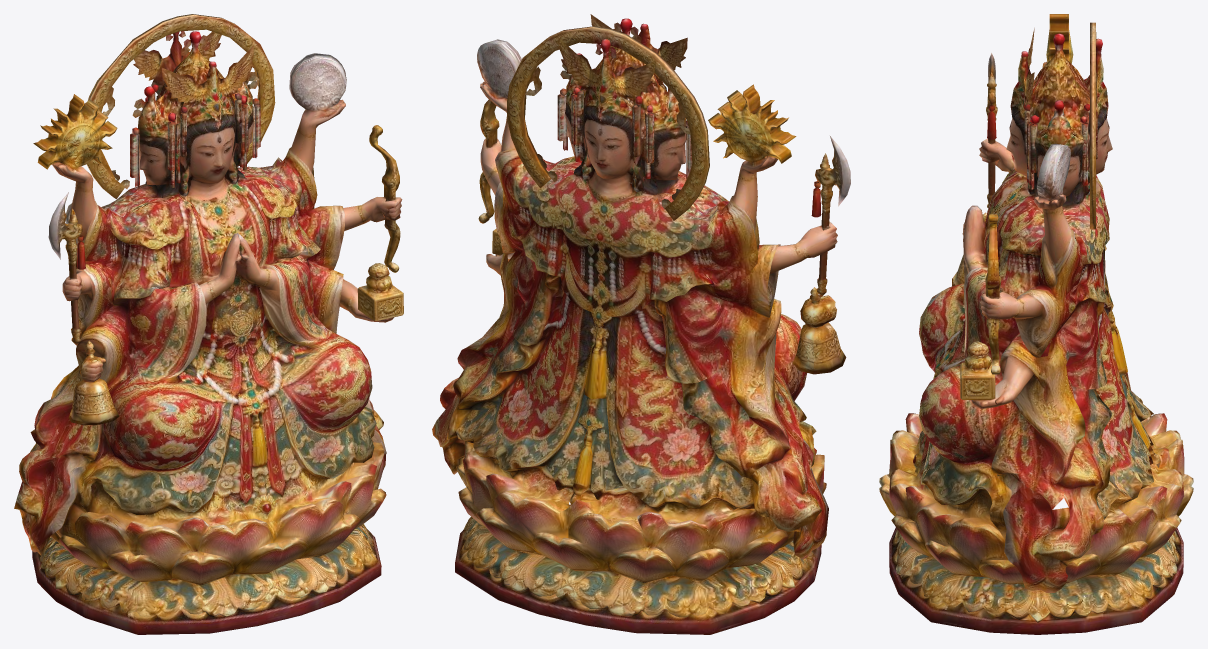
File: doumu.glb
The picture shows the model from 3 angles, left to right: view 1: azimuth 30°, elevation 25°; view 2: azimuth 150°, elevation 25°; view 3: azimuth 270°, elevation 25°; orthographic projection. The views are drawn at different scales.
Size of the model in its own units: 0.7192 by 0.9995 by 0.5357.
1 material, 1 textured.
